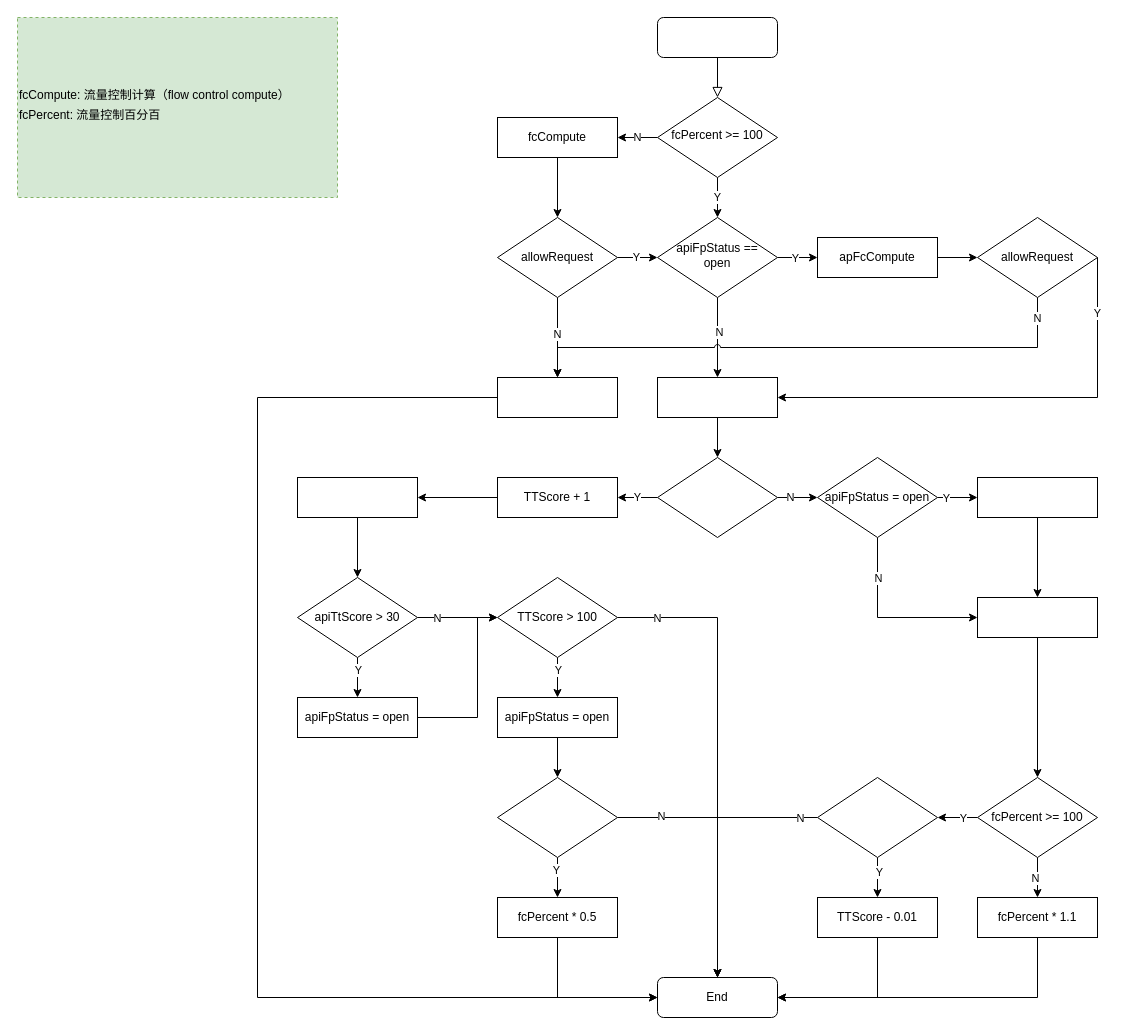
Image size: 1123x1035. Some labels were removed from this diagram. The shapes that lost their labels are listed below. From the top down, each one's box as (x1, y1, x2, y2) in pixels, then its label:
(656, 16, 778, 58): Client Request
(496, 376, 618, 418): Fast Fail
(656, 376, 778, 418): API Request
(296, 476, 418, 518): apiTtScore + 1
(656, 456, 778, 538): isTimeout
(976, 476, 1098, 518): apiFpStatus = close
(976, 596, 1098, 638): apiTtScore - 0.01
(496, 776, 618, 858): TTScore > 120
(816, 776, 938, 858): TTScore > 0
